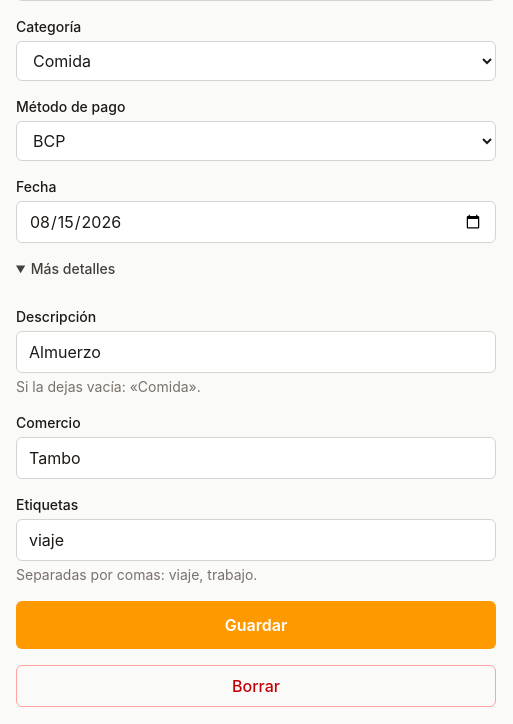
Test: EditMovementScreen › deletes and offers to undo, restoring when asked
The width and height of the screenshot is (513, 724).
(page scrolled)
Click the button "Borrar" at (256, 686), box [16,665,496,707]
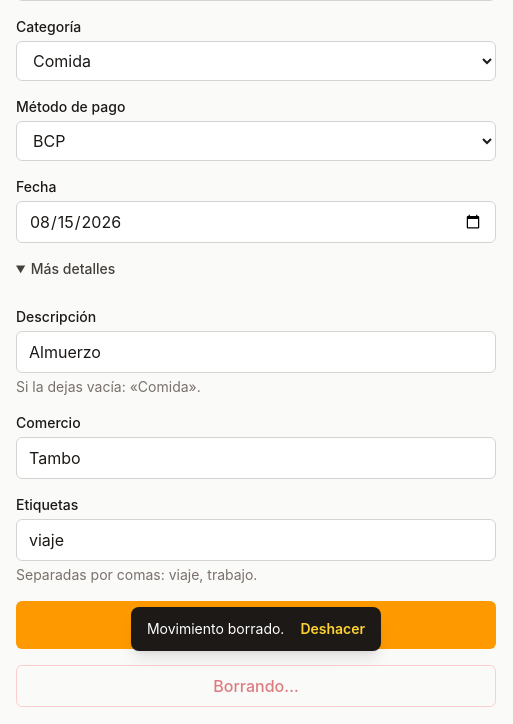
Result: the text "Movimiento borrado." is shown at [147,619,284,639]
Click the button "Deshacer" at (333, 629), box [300,619,365,639]
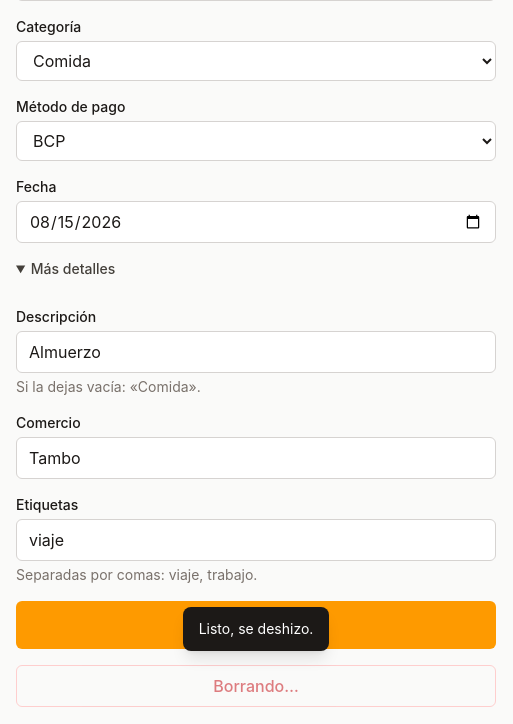
Result: the text "Listo, se deshizo." is shown at [183,607,329,651]
